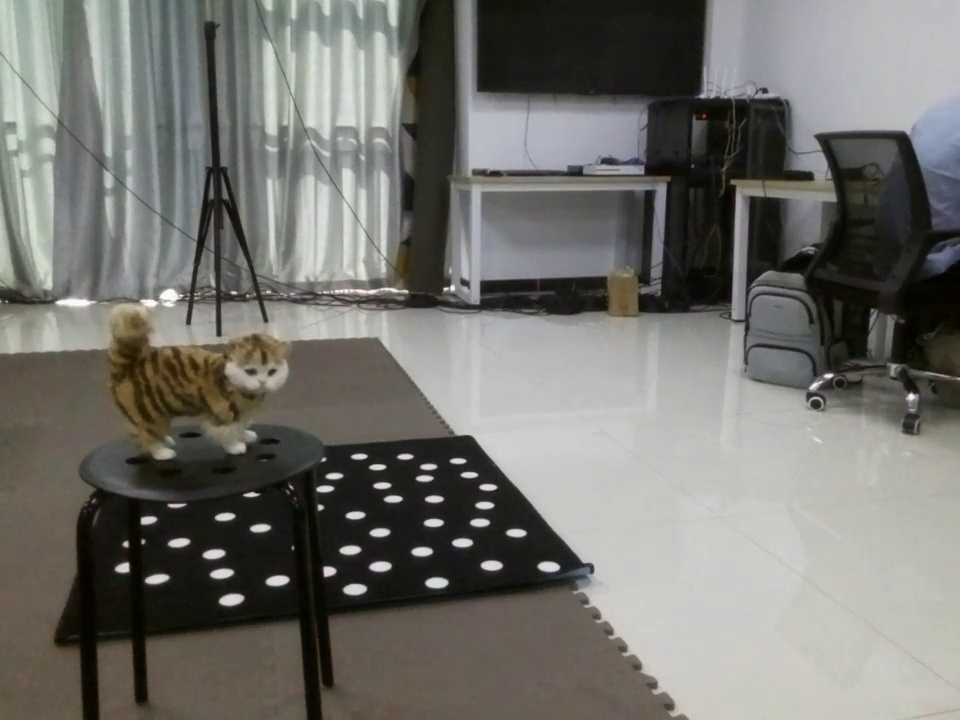cat: (78, 303, 312, 467)
